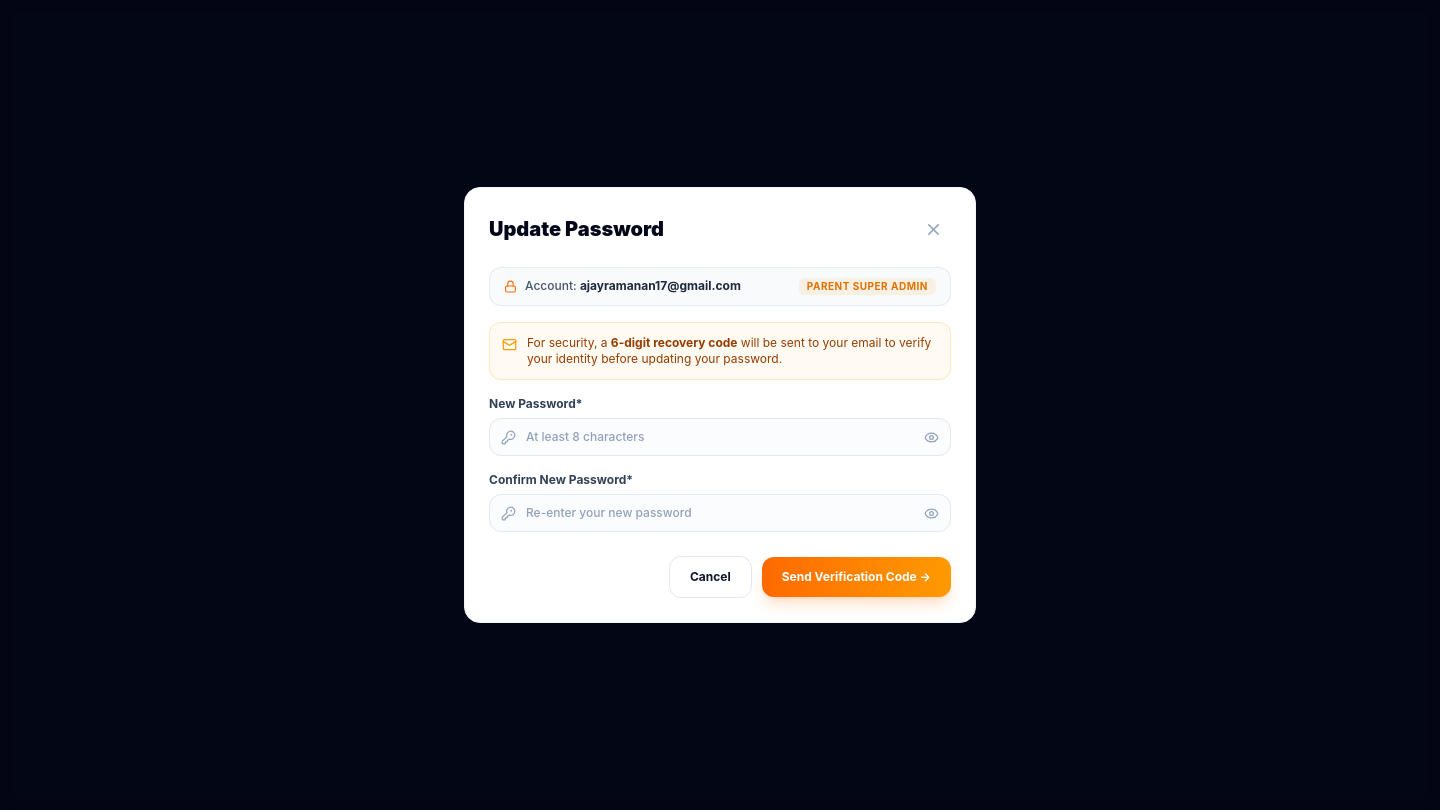
Test case: UpdatePasswordModal Component › validates minimum 8 characters requirement
Step 1. Type "short" into the password field with test id "new-password-input" → (720,437), box [489,418,951,456]
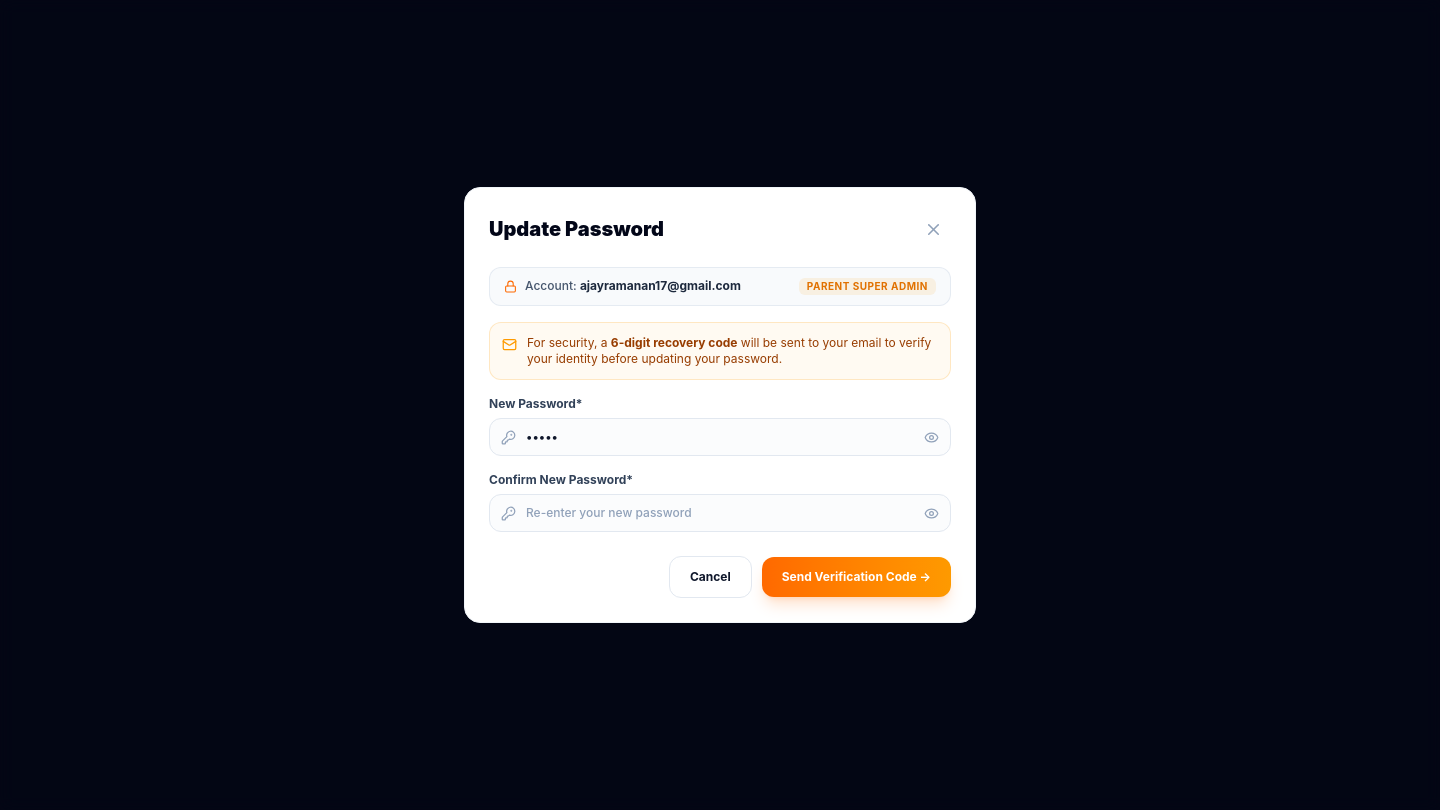
Step 2. Type "short" into the password field with test id "confirm-password-input" → (720,513), box [489,494,951,532]
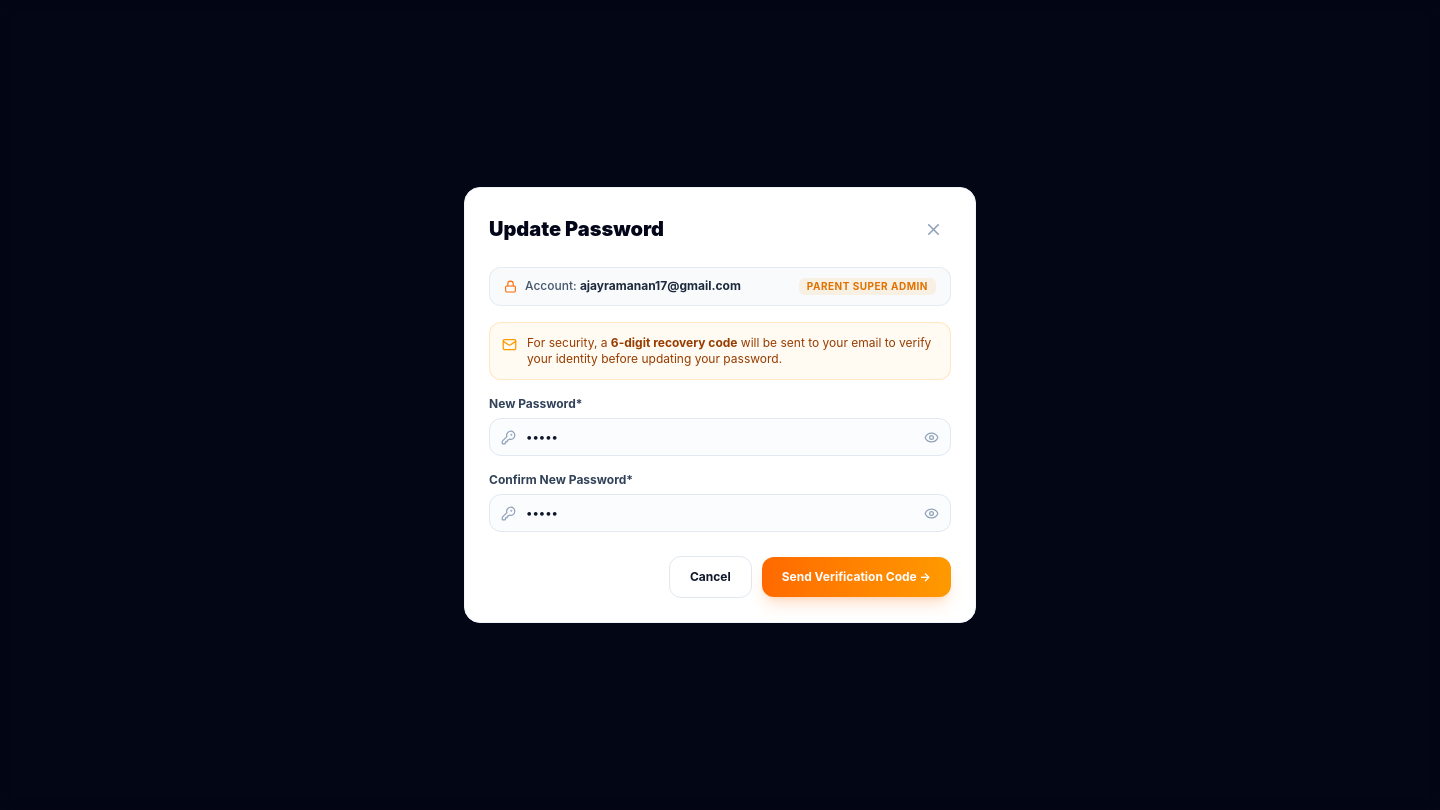
Step 3. Click the button with test id "submit-update-password-btn" → (856,577), box [762,557,951,597]
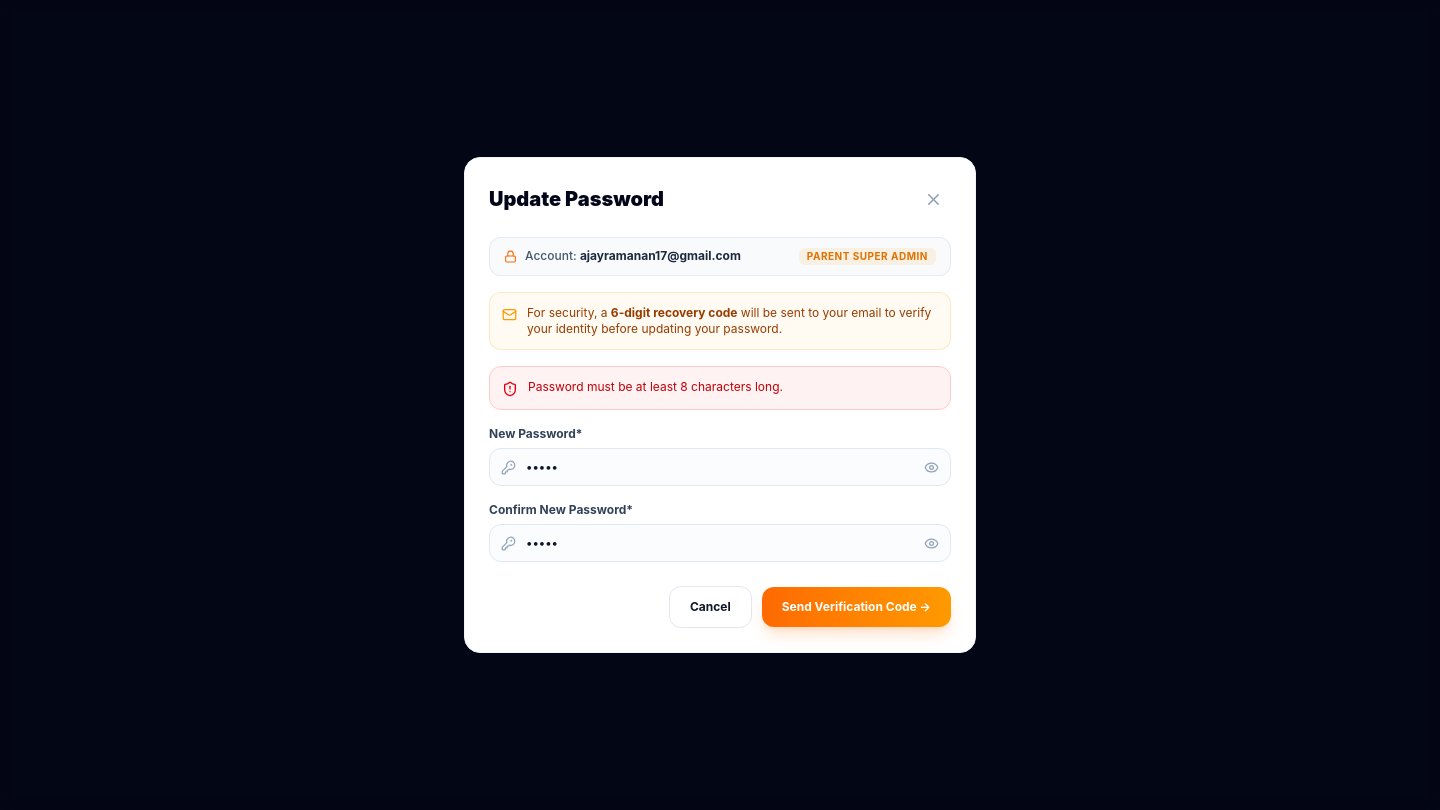
Now the element with test id "update-password-error" reads "Password must be at least 8 characters long.", box [528,379,783,394]
